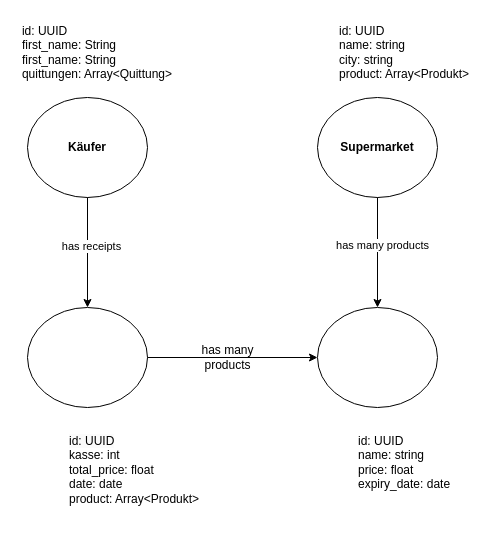
Some shapes in this 486 by 537 pixel diagram are drawn without their labels. Here are the shapes that lost their labels. From the top down, the box of each, then its label:
(26, 306, 148, 408): Quittung
(316, 306, 438, 408): Produkt
